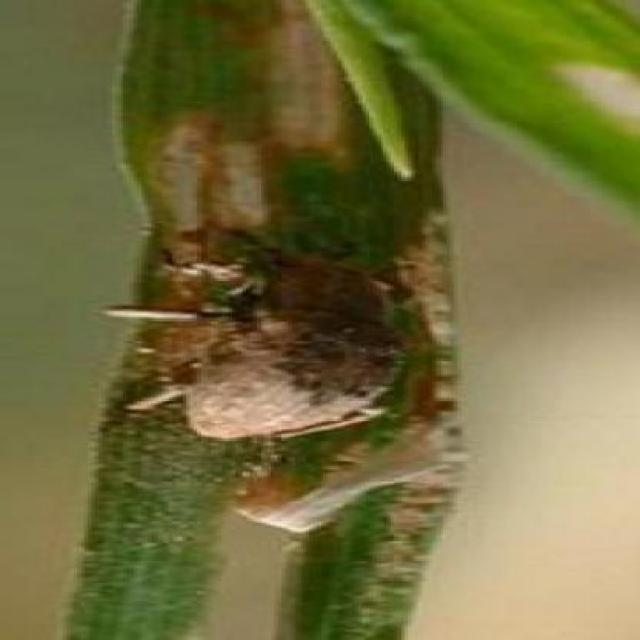rice-bug: (131, 248, 431, 440)
